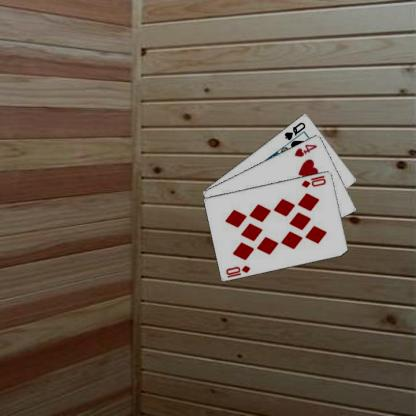10D: (299, 173, 327, 188), (224, 263, 252, 278)
4H: (292, 142, 318, 158)
QS: (282, 120, 307, 141)
